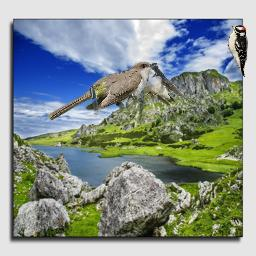Cuckoo: (47, 61, 157, 120)
Swallow: (139, 62, 192, 106)
Woodpecker: (227, 25, 248, 77)
